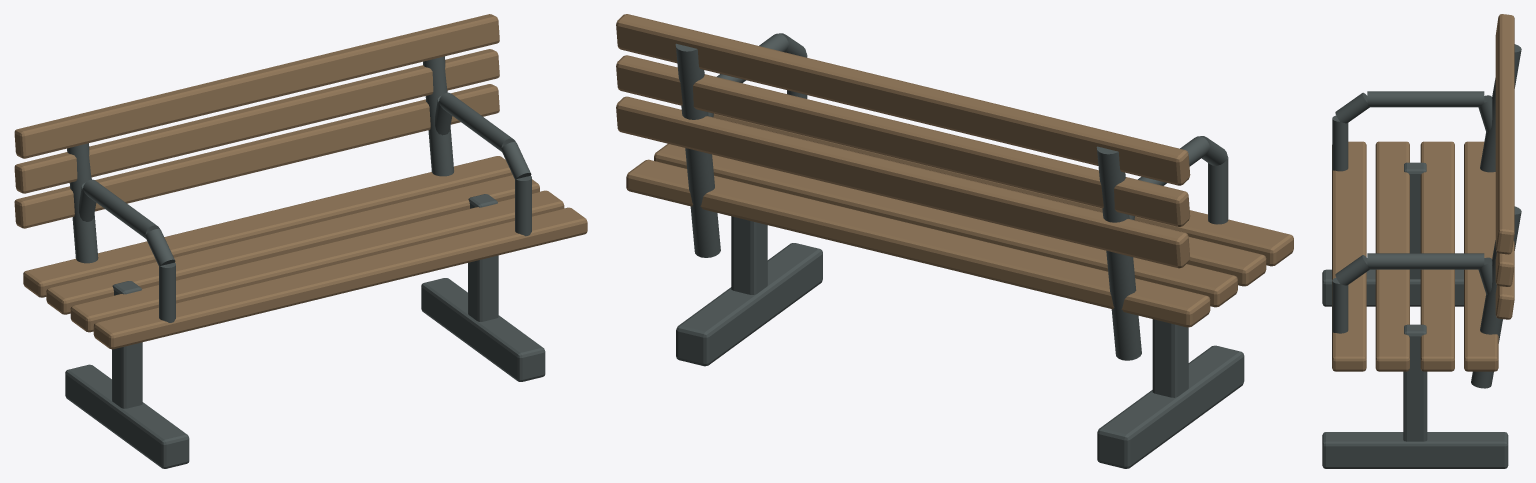
File: bench.glb
3 renders of one model, left to right at view 1: azimuth 30°, elevation 25°; view 2: azimuth 150°, elevation 25°; view 3: azimuth 270°, elevation 25°, orthographic. The views are drawn at different scales.
Parts seen in each view (by area): view 1: Bench seat slat, Bench foot; view 2: Bench seat slat, Bench foot; view 3: Bench seat slat, Bench foot.
Part boxes in pixels (<box>): Bench seat slat: <box>14,14,587,349</box>; Bench foot: <box>65,56,545,468</box>; Bench seat slat: <box>616,14,1293,327</box>; Bench foot: <box>675,33,1244,468</box>; Bench seat slat: <box>1332,14,1514,371</box>; Bench foot: <box>1322,44,1521,468</box>.
Size of the model in its own units: 1.72 by 0.9616 by 0.6646.
